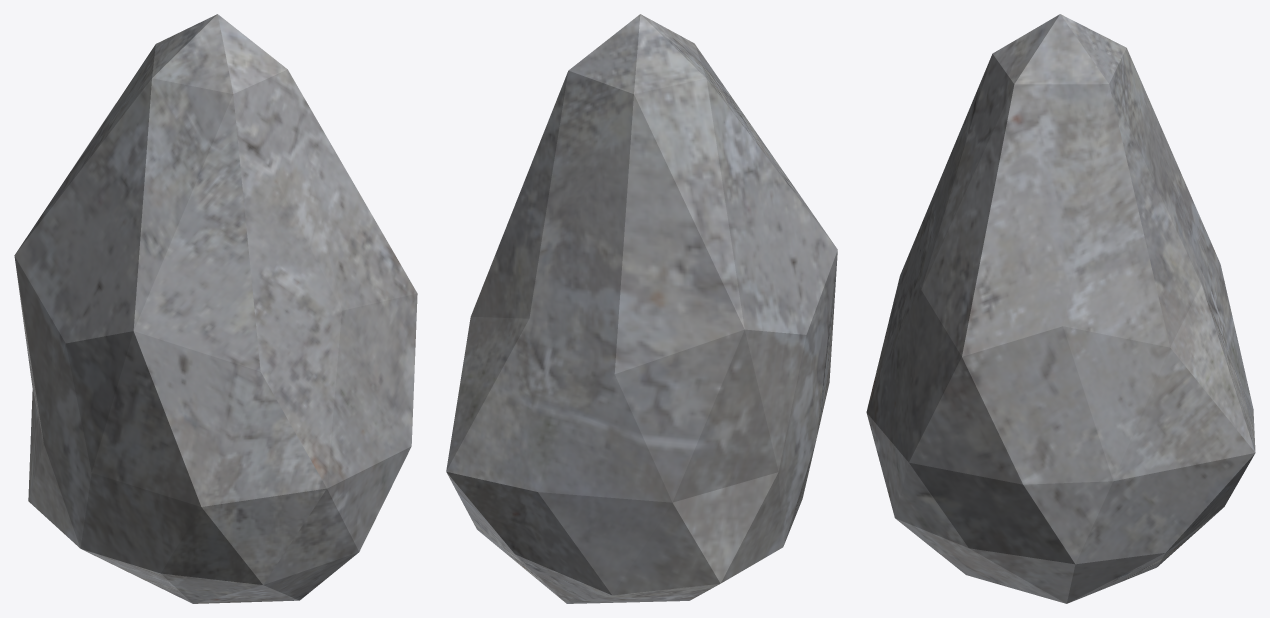
Rendered from mg_12_crystal_6.fbx.
3 views of the same model, side by side, from view 1: azimuth 30°, elevation 25°; view 2: azimuth 150°, elevation 25°; view 3: azimuth 270°, elevation 25° (orthographic). The views are drawn at different scales.
Parts seen in each view (by area): view 1: mg_12_crystal_6; view 2: mg_12_crystal_6; view 3: mg_12_crystal_6.
Part boxes in pixels (x1,y1,x2,y2): mg_12_crystal_6: (14, 14, 417, 603); mg_12_crystal_6: (446, 14, 837, 603); mg_12_crystal_6: (866, 14, 1255, 603).
Size of the model in its own units: 10.03 by 17.44 by 10.92.
